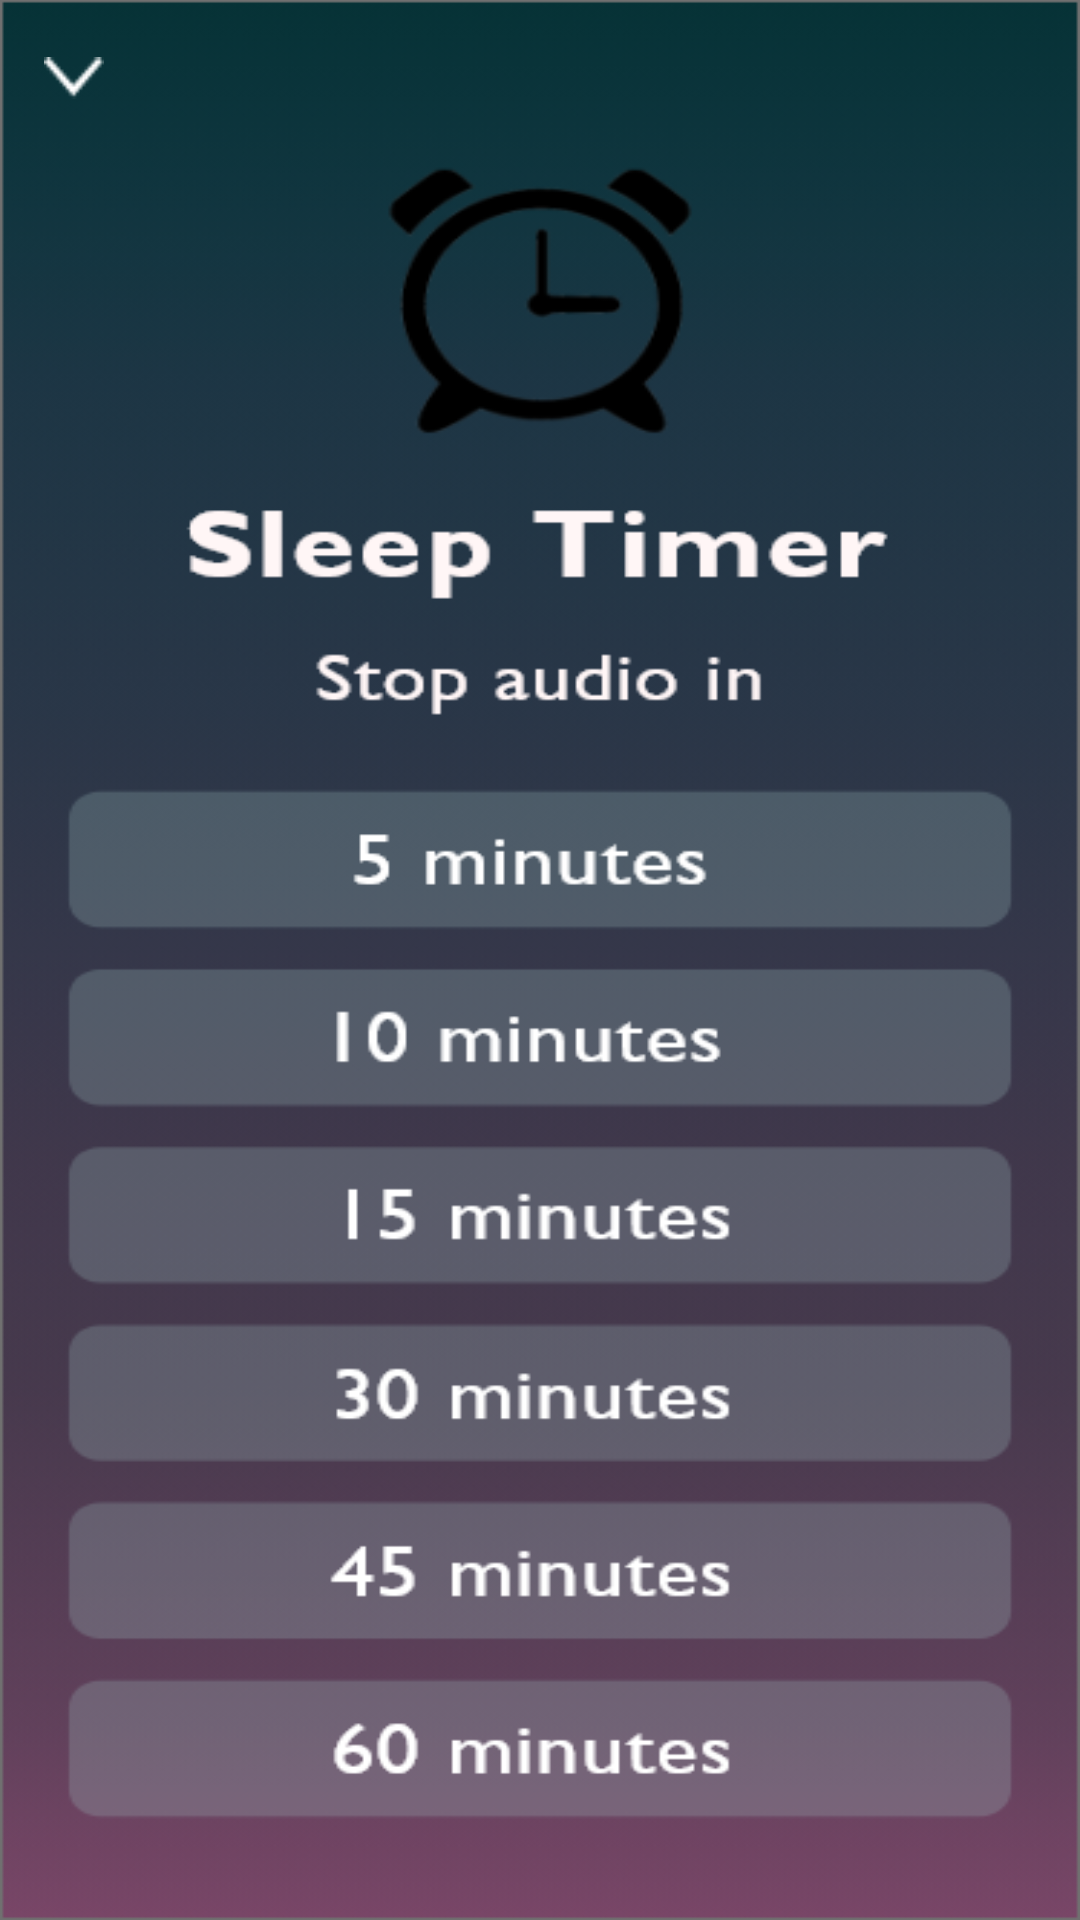

Where icons sit on this 1080×1920 app screen, as (x1, y1, x2, y2):
down pointing arrow: (44, 57, 104, 97)
